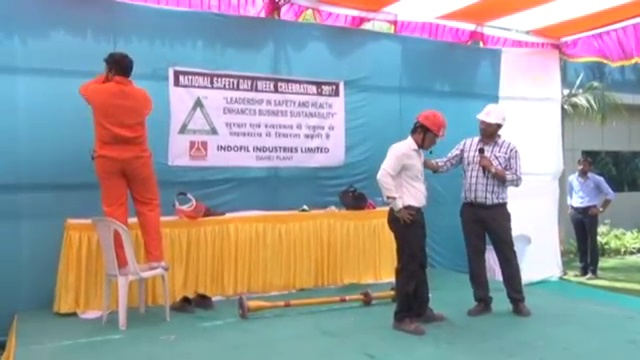helmet: (416, 107, 449, 140), (471, 101, 508, 127)
helmet_off: (102, 54, 136, 81), (574, 156, 592, 178)
helmet_on: (471, 102, 508, 144), (410, 110, 447, 151)
person: (421, 101, 534, 319), (79, 53, 175, 274), (372, 106, 454, 338), (566, 156, 615, 281)
